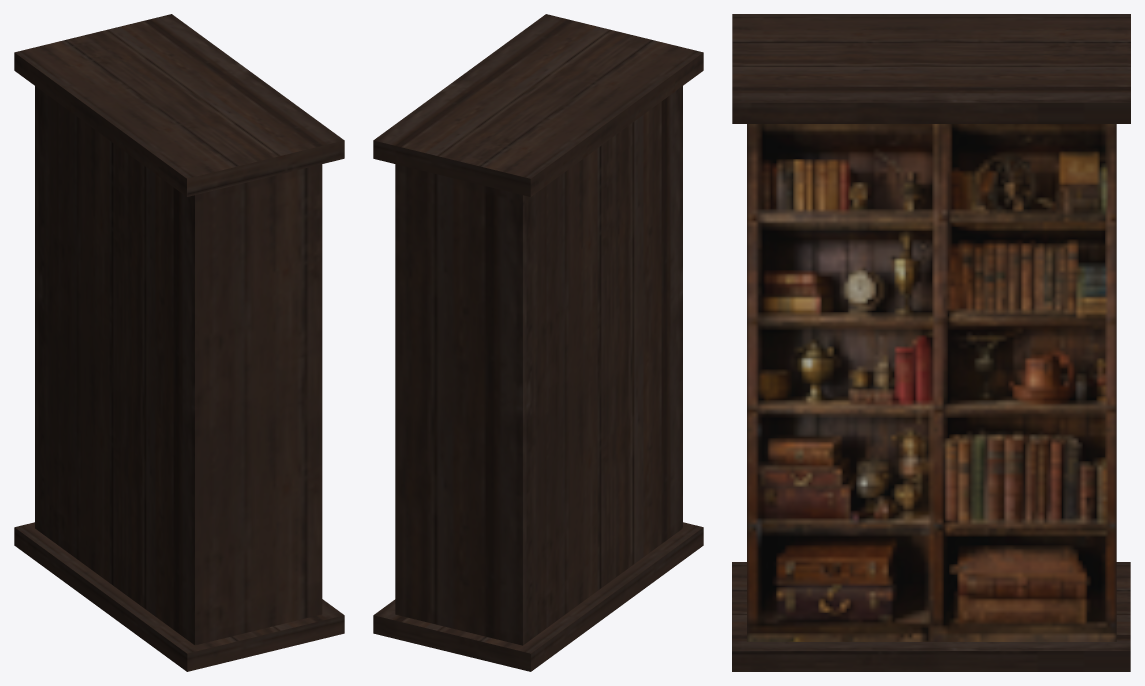
File: Shelves1.fbx
3 views of the same model, side by side, from view 1: azimuth 30°, elevation 25°; view 2: azimuth 150°, elevation 25°; view 3: azimuth 270°, elevation 25° (orthographic). The views are drawn at different scales.
Parts seen in each view (by area): view 1: Shelves, Shelves2; view 2: Shelves, Shelves2; view 3: Shelves, Shelves2.
Part boxes in pixels (bbox=[...]): Shelves: bbox=[35, 86, 322, 645]; Shelves2: bbox=[14, 14, 344, 671]; Shelves: bbox=[395, 86, 682, 645]; Shelves2: bbox=[373, 14, 703, 671]; Shelves: bbox=[747, 124, 1116, 641]; Shelves2: bbox=[732, 14, 1130, 671].
Size of the model in its own units: 183 by 549 by 348.
Materials: 2 (2 with a texture image).
